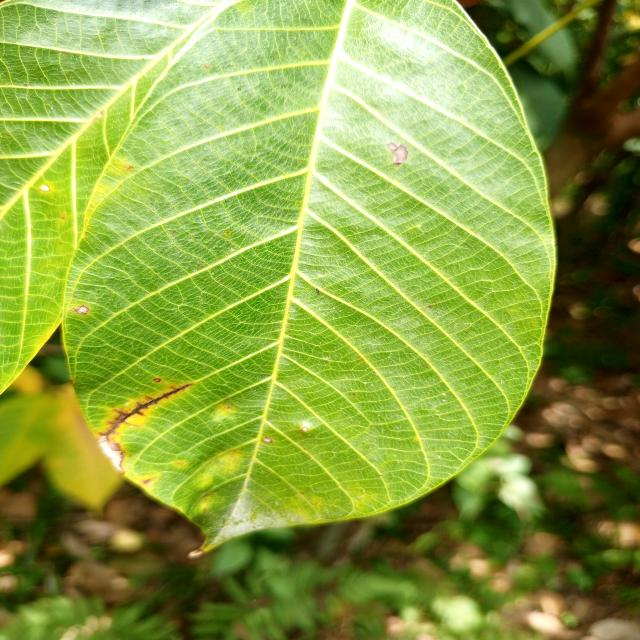Colletotrichum: (263, 436, 272, 444), (153, 378, 161, 383), (301, 427, 308, 432)
Corynespora: (100, 383, 193, 440)
Leaf-Blight: (98, 436, 122, 471)
